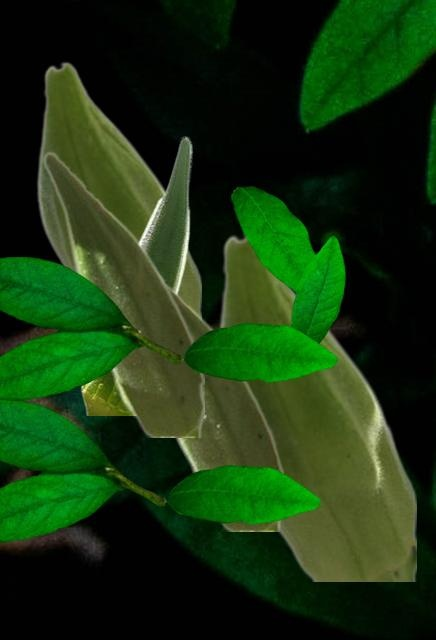okra: (216, 233, 415, 580), (42, 150, 203, 436), (36, 61, 200, 313), (161, 273, 282, 530), (80, 135, 191, 414)
